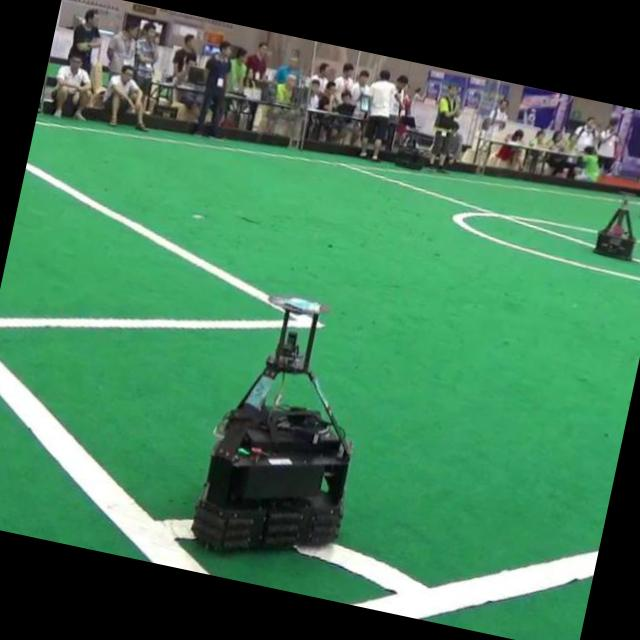robot: (191, 297, 351, 550), (593, 208, 634, 259)
